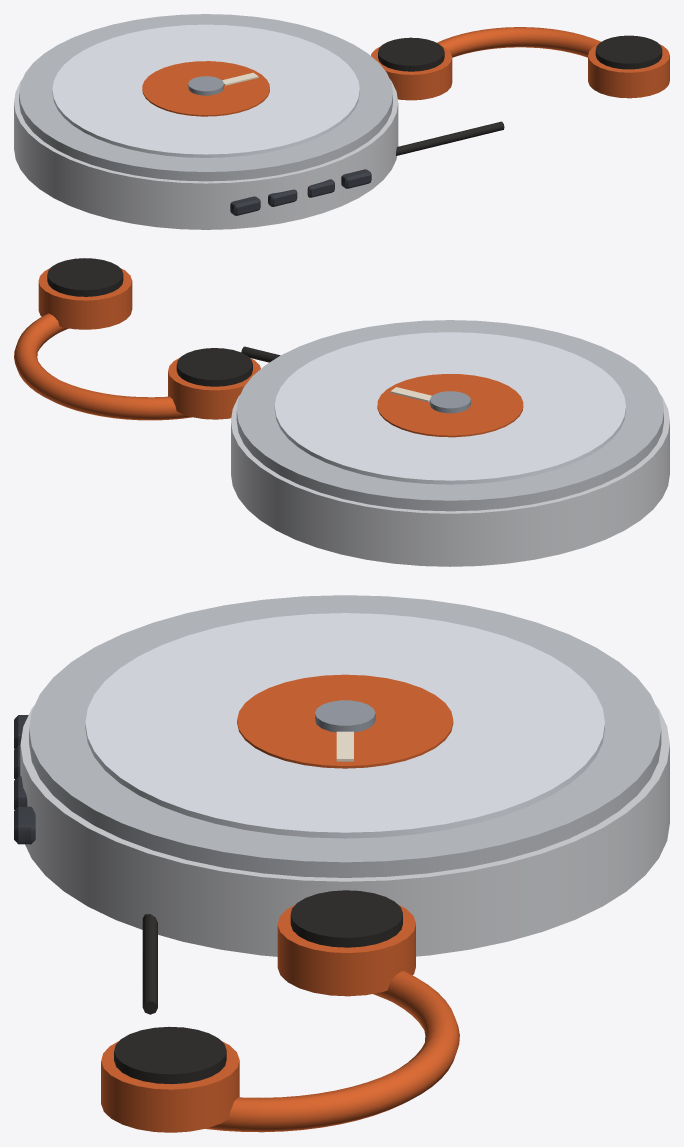
Rendered from cdplayer.glb.
3 views of the same model, one above another, from view 1: azimuth 30°, elevation 25°; view 2: azimuth 150°, elevation 25°; view 3: azimuth 270°, elevation 25° (orthographic). The views are drawn at different scales.
Visible parts, largest first — view 1: Disc, Body, Lid, Phones, Pad, Key, Cord; view 2: Disc, Body, Lid, Phones, Pad; view 3: Disc, Lid, Body, Phones, Pad, Key, Cord.
Part boxes in pixels (x1,y1,x2,y2): Disc: (52, 24, 359, 157); Body: (14, 79, 398, 229); Lid: (19, 14, 392, 181); Phones: (371, 27, 669, 100); Pad: (378, 35, 662, 71); Key: (230, 169, 371, 215); Cord: (396, 121, 504, 155); Disc: (274, 332, 625, 484); Body: (231, 395, 669, 566); Lid: (236, 320, 663, 511); Phones: (14, 268, 260, 420); Pad: (47, 258, 252, 386); Disc: (85, 613, 604, 838); Lid: (29, 595, 661, 877); Body: (20, 705, 669, 956); Phones: (101, 904, 459, 1132); Pad: (114, 890, 402, 1084); Key: (14, 715, 35, 844); Cord: (142, 914, 157, 1014).
Bounding box in the file's own units: 0.5166 × 0.056 × 0.303.
